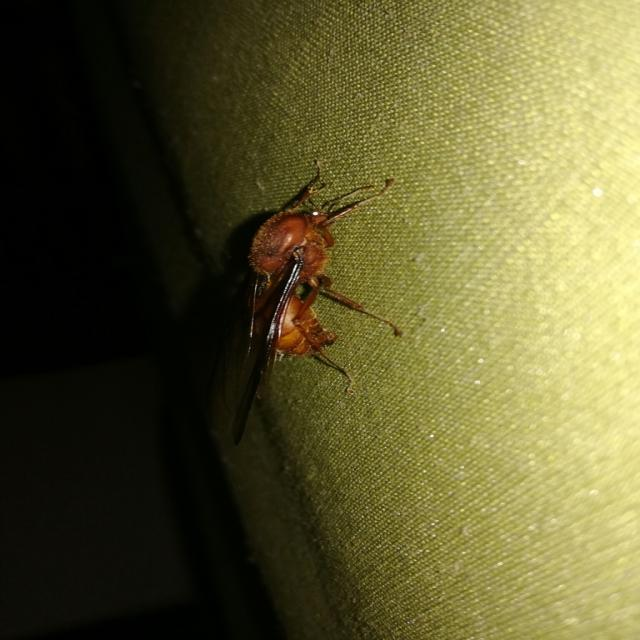Alive-Male-Alate: (230, 158, 404, 446)
